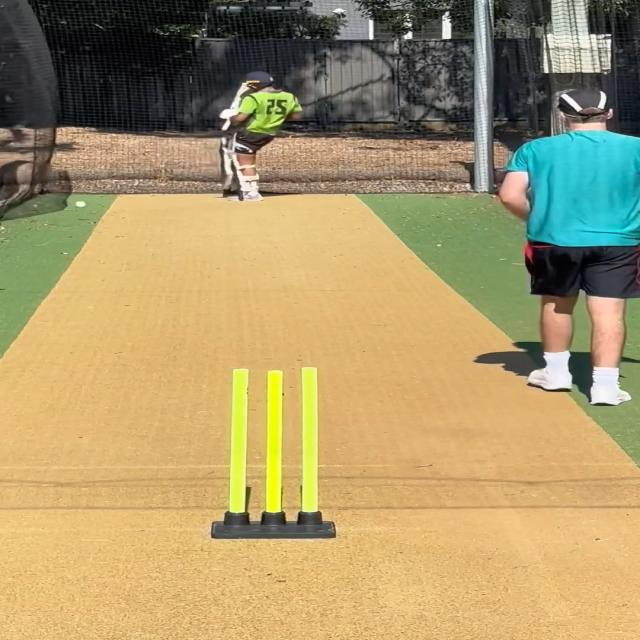ball: (73, 201, 87, 208)
stump: (208, 366, 339, 539)
